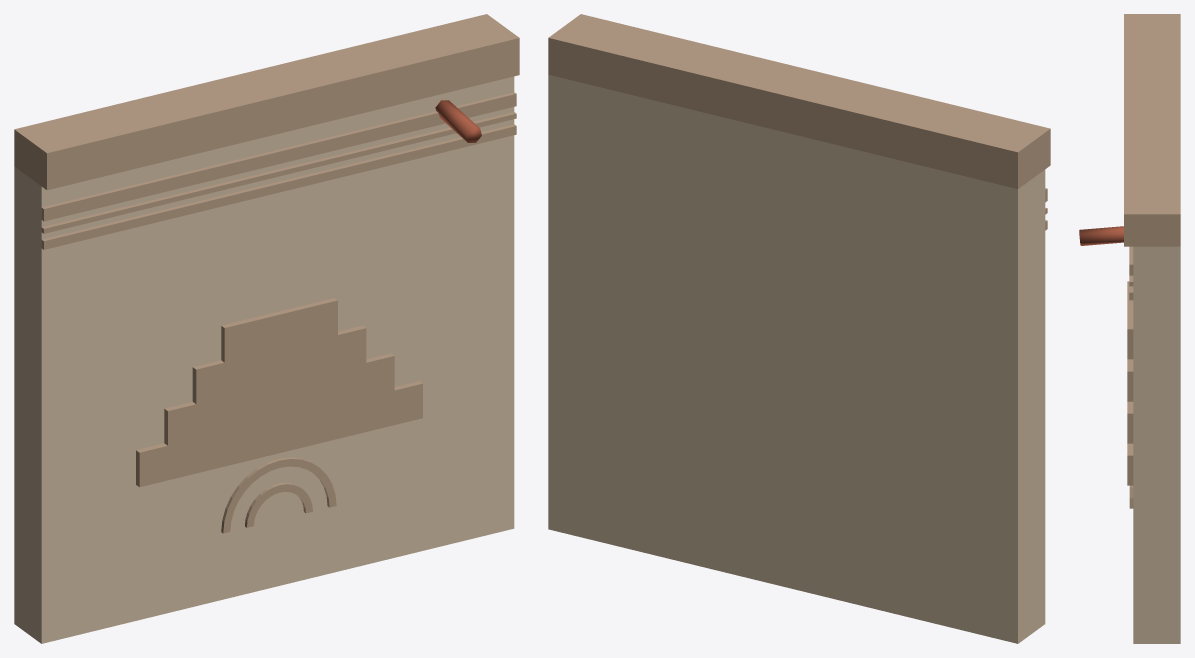
File: city_facade_blank.glb
3 renders of one model, left to right at view 1: azimuth 30°, elevation 25°; view 2: azimuth 150°, elevation 25°; view 3: azimuth 270°, elevation 25°, orthographic. The views are drawn at different scales.
Parts seen in each view (by area): view 1: CityFacadeBlank_Wall, CityFacadeBlank_Band, CityFacadeBlank_Mesa, CityFacadeBlank_Strata2, CityFacadeBlank_Strata0, CityFacadeBlank_Strata1, CityFacadeBlank_Ripples, CityFacadeBlank_Spout; view 2: CityFacadeBlank_Wall, CityFacadeBlank_Band; view 3: CityFacadeBlank_Wall, CityFacadeBlank_Band, CityFacadeBlank_Mesa, CityFacadeBlank_Spout.
Boxes of the visible parts, x1,y1,x2,y2 form: CityFacadeBlank_Wall: (14, 76, 514, 643); CityFacadeBlank_Band: (14, 14, 519, 190); CityFacadeBlank_Mesa: (136, 298, 422, 487); CityFacadeBlank_Strata2: (41, 92, 516, 221); CityFacadeBlank_Strata0: (41, 124, 516, 249); CityFacadeBlank_Strata1: (41, 112, 516, 233); CityFacadeBlank_Ripples: (221, 457, 336, 533); CityFacadeBlank_Spout: (435, 100, 481, 142); CityFacadeBlank_Wall: (548, 74, 1045, 643); CityFacadeBlank_Band: (548, 14, 1050, 188); CityFacadeBlank_Wall: (1133, 246, 1180, 643); CityFacadeBlank_Band: (1124, 14, 1180, 246); CityFacadeBlank_Mesa: (1127, 281, 1133, 485); CityFacadeBlank_Spout: (1079, 226, 1123, 245).
Size of the model in its own units: 4 by 4 by 0.8561.
